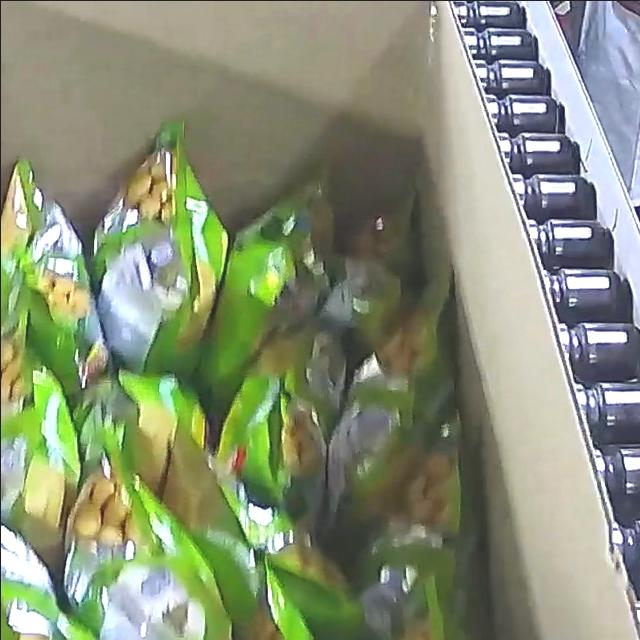yogurt: (0, 111, 499, 640)
